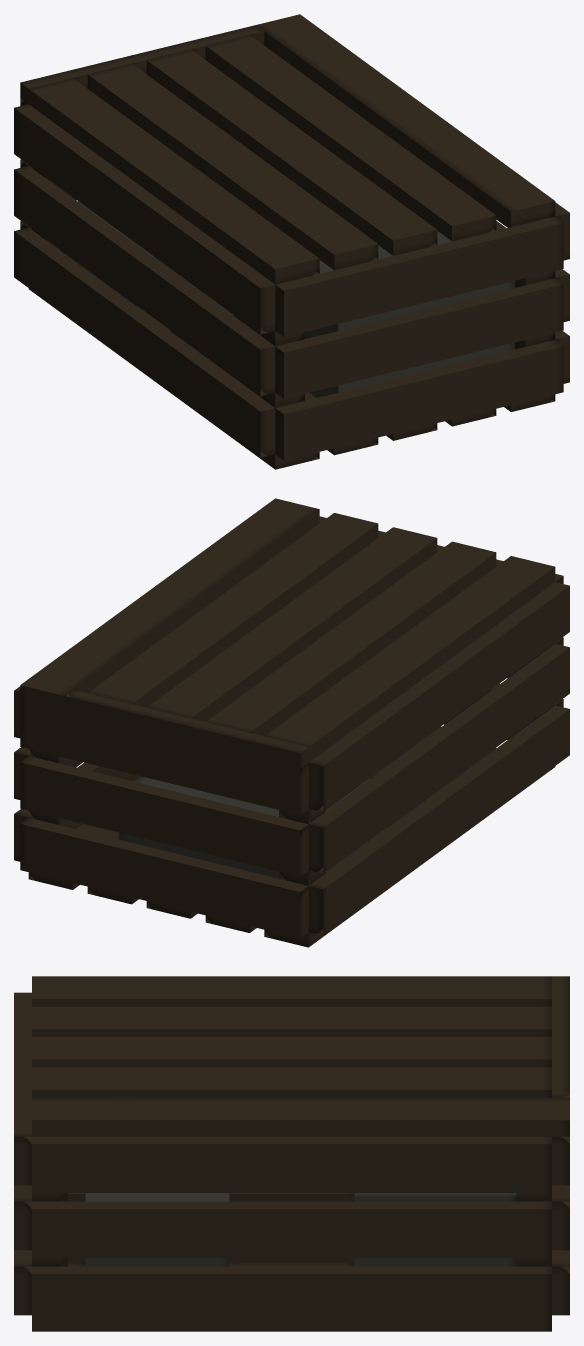
File: skrzynka_drewno.dae
3 renders of one model, top to bottom at view 1: azimuth 30°, elevation 25°; view 2: azimuth 150°, elevation 25°; view 3: azimuth 270°, elevation 25°, orthographic. The views are drawn at different scales.
Parts seen in each view (by area): view 1: Content; view 2: Content; view 3: Content.
Boxes of the visible parts, box(x1,y1,x2,y2) form: Content: box(14, 14, 569, 469); Content: box(14, 498, 569, 947); Content: box(14, 976, 569, 1331).
Bounding box in the file's own units: 21 × 13 × 31.
Materials: 1 (1 with a texture image).
